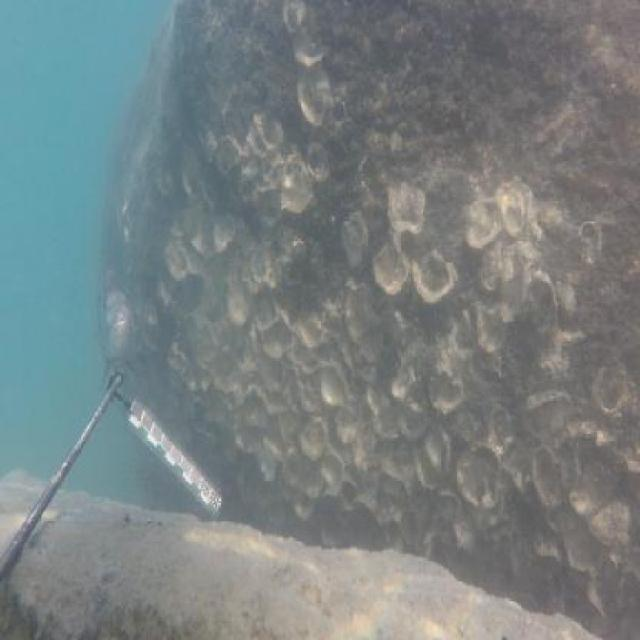acanthopagrus_palmaris: (95, 263, 139, 385)
